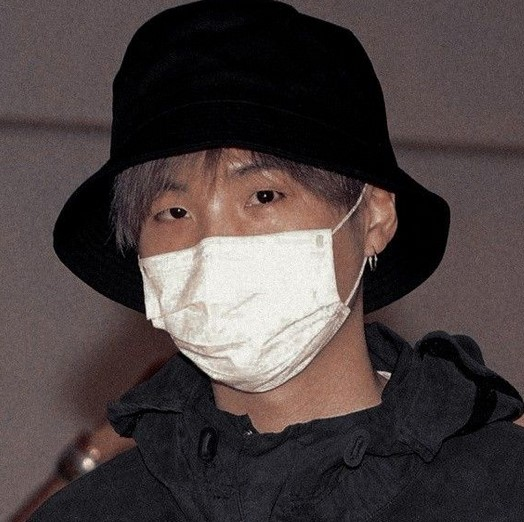face_with_mask: (54, 9, 446, 394)
